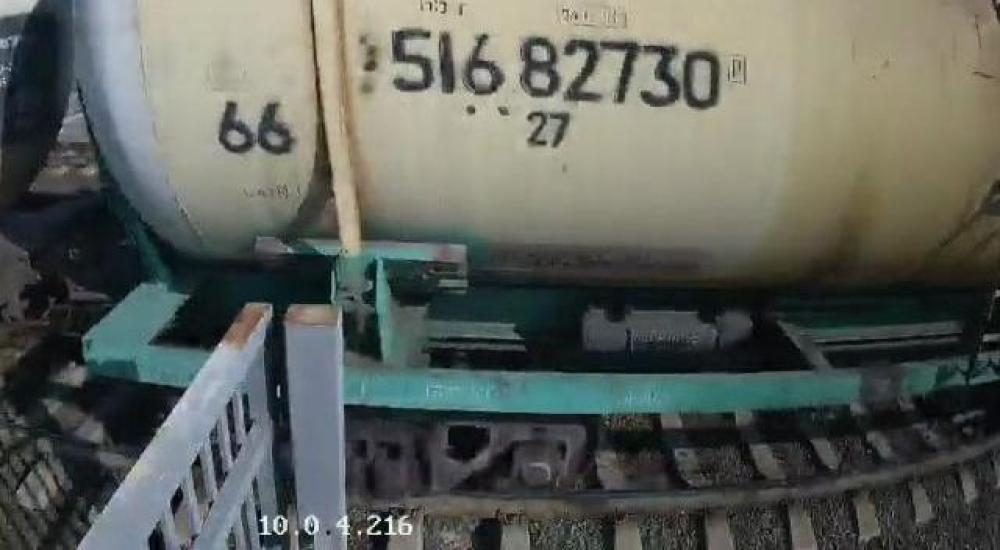Wagon-number: (386, 23, 728, 116)
